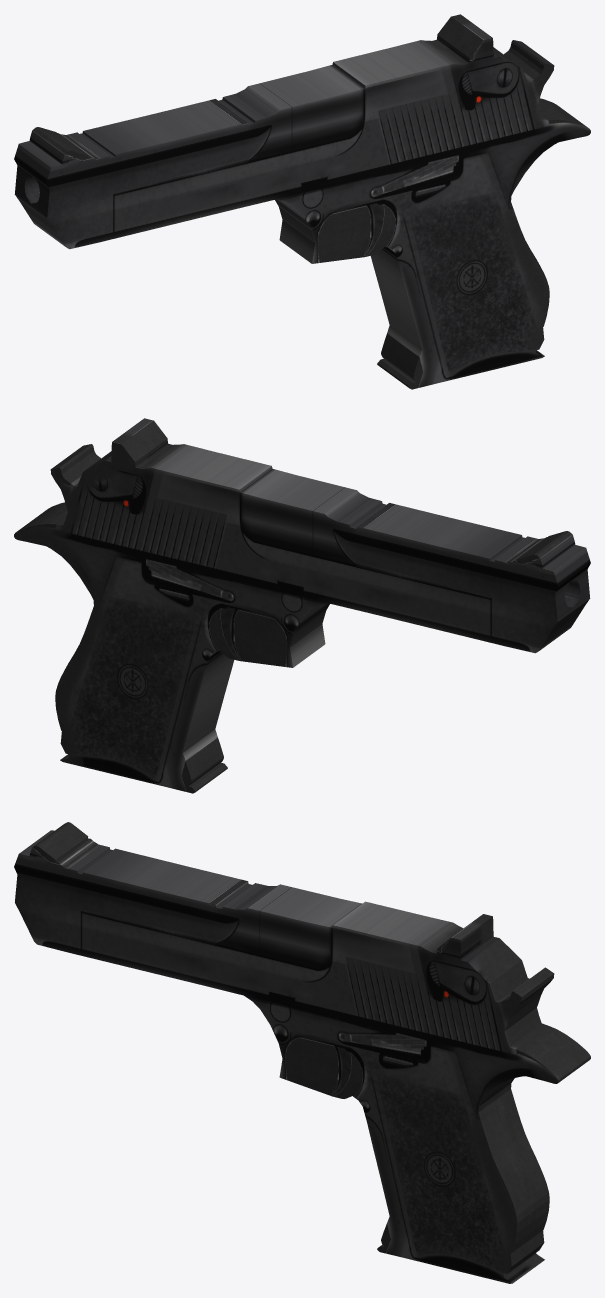
Rendered from colt.fbx.
The picture shows the model from 3 angles, top to bottom: view 1: azimuth 30°, elevation 25°; view 2: azimuth 150°, elevation 25°; view 3: azimuth 330°, elevation 25°; orthographic projection.
Visible parts, largest first — view 1: BézierCurve; view 2: BézierCurve; view 3: BézierCurve.
Boxes of the visible parts, x1,y1,x2,y2 form: BézierCurve: (14, 14, 590, 389); BézierCurve: (14, 418, 590, 793); BézierCurve: (14, 822, 590, 1283).
Bounding box in the file's own units: 500 × 291 × 51.65.
Materials: 1 (1 with a texture image).
